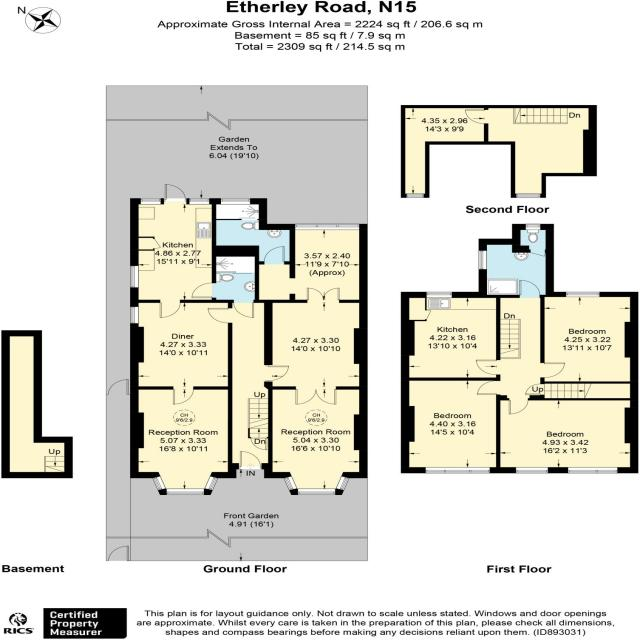DOOR: (295, 386, 337, 405), (306, 287, 340, 303), (238, 450, 263, 470), (264, 364, 290, 383), (163, 184, 187, 204), (172, 386, 195, 405), (207, 307, 232, 324), (540, 362, 565, 378), (476, 379, 501, 395), (475, 359, 500, 375), (191, 282, 216, 298), (519, 280, 541, 298), (263, 246, 285, 264), (159, 300, 181, 318), (233, 300, 254, 318), (508, 398, 529, 415)
ROOM: (264, 287, 368, 405), (130, 184, 216, 318), (130, 386, 233, 496), (268, 386, 368, 496), (129, 299, 232, 405), (496, 398, 639, 474), (400, 377, 501, 474), (540, 291, 639, 384), (401, 292, 501, 381)
WINDOW: (151, 475, 220, 496), (294, 223, 360, 230), (425, 467, 490, 474), (567, 466, 619, 474), (297, 488, 336, 495), (564, 291, 601, 298), (335, 475, 350, 491), (515, 467, 549, 474), (283, 476, 298, 491), (220, 198, 251, 205), (130, 265, 139, 288), (478, 250, 487, 270), (130, 306, 139, 324), (426, 292, 452, 298), (140, 198, 162, 205), (189, 198, 210, 205), (525, 223, 541, 230)
